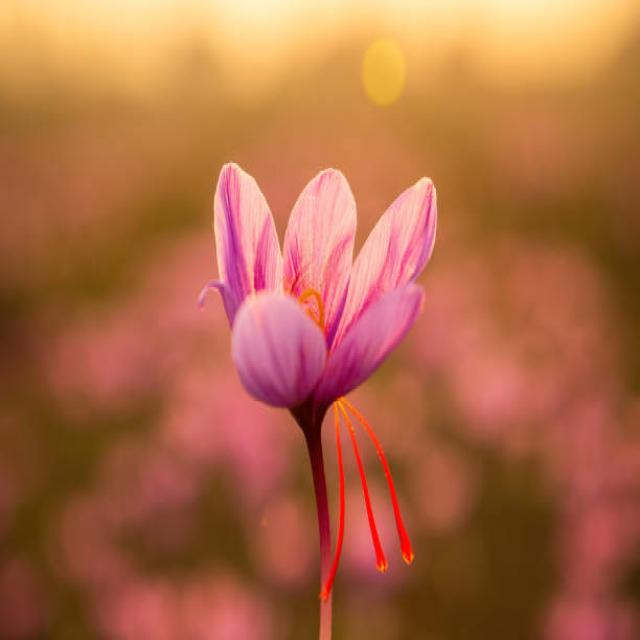saffron open: (210, 165, 435, 585)
